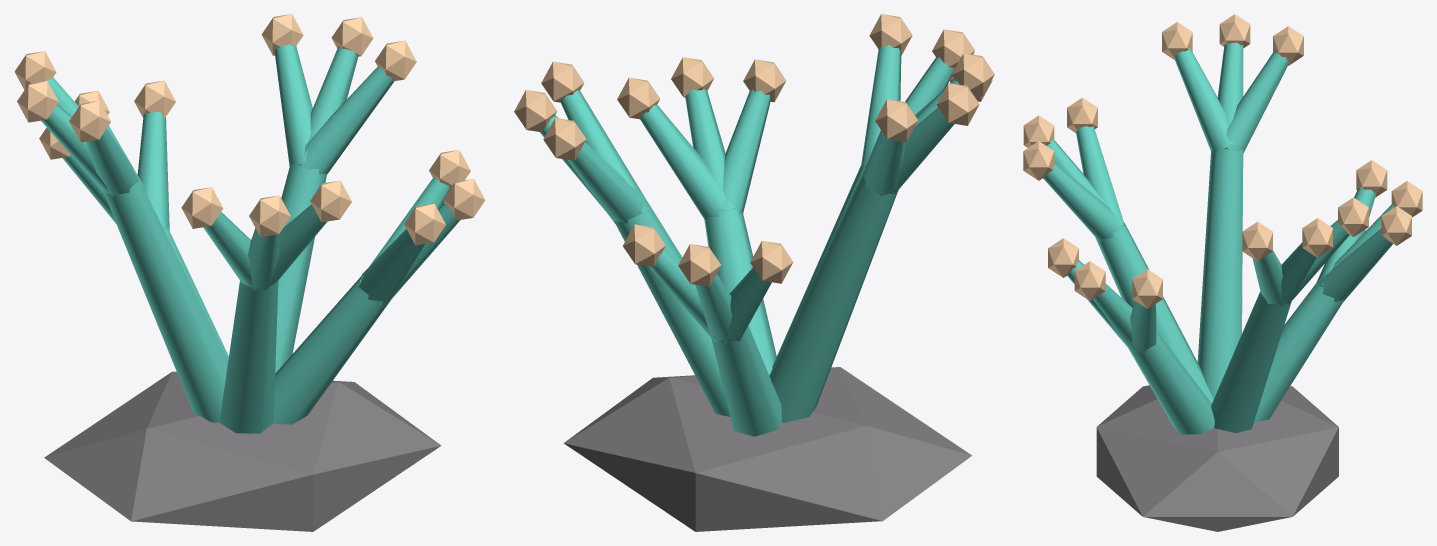
Rendered from ocean-scenery-7.glb.
3 views of the same model, side by side, from view 1: azimuth 30°, elevation 25°; view 2: azimuth 150°, elevation 25°; view 3: azimuth 270°, elevation 25° (orthographic). The views are drawn at different scales.
Parts seen in each view (by area): view 1: Branching ocean coral; view 2: Branching ocean coral; view 3: Branching ocean coral.
Part boxes in pixels (left/top/right/bottom): Branching ocean coral: left=14, top=14, right=485, bottom=531; Branching ocean coral: left=514, top=14, right=994, bottom=531; Branching ocean coral: left=1023, top=14, right=1422, bottom=531.
Bounding box in the file's own units: 1.54 × 1.67 × 1.54.
